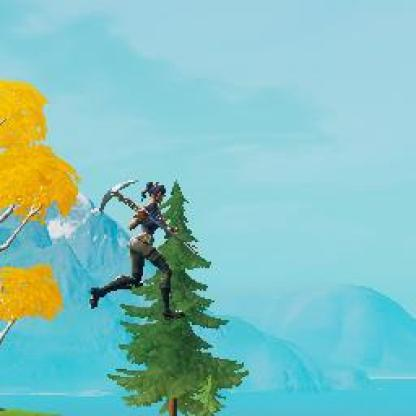dumpster: (88, 180, 187, 320)
